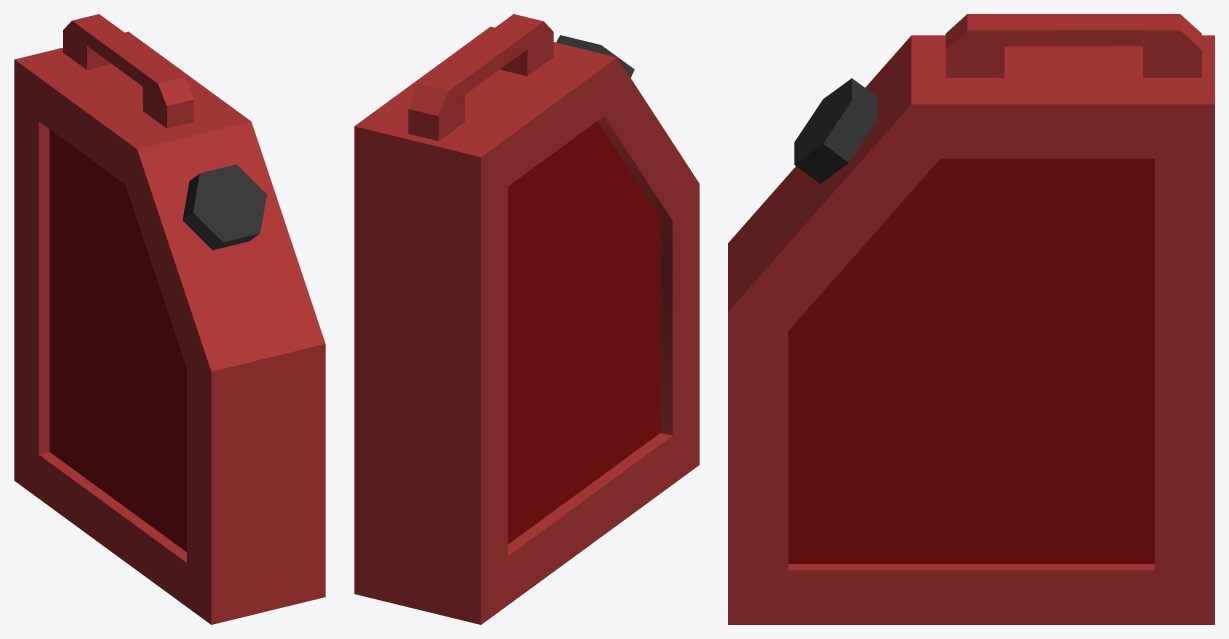
The model's file is FuelCanister.fbx.
3 renders of one model, left to right at view 1: azimuth 30°, elevation 25°; view 2: azimuth 150°, elevation 25°; view 3: azimuth 270°, elevation 25°, orthographic. The views are drawn at different scales.
Visible parts, largest first — view 1: Cube_3; view 2: Cube_3; view 3: Cube_3.
Boxes of the visible parts, <box> form: Cube_3: <box>14,14,325,624</box>; Cube_3: <box>354,14,699,624</box>; Cube_3: <box>728,14,1214,624</box>.
Bounding box in the file's own units: 7.91 × 30.45 × 23.63.
